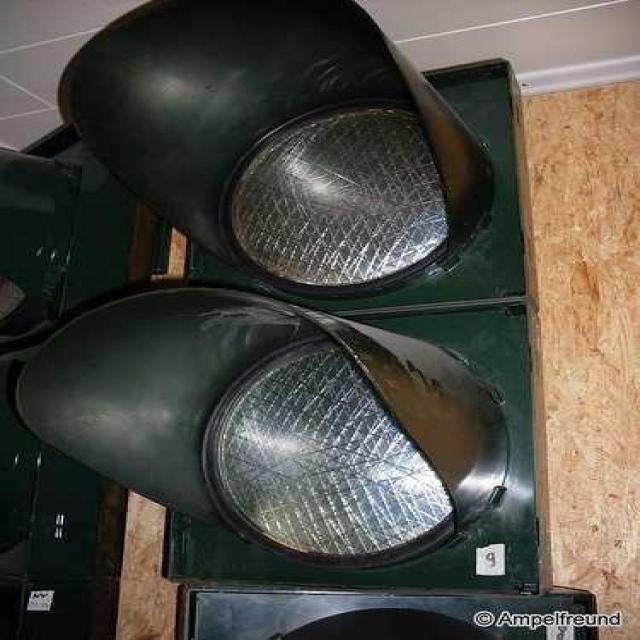Traffic Light -Off-: (39, 0, 572, 619)
